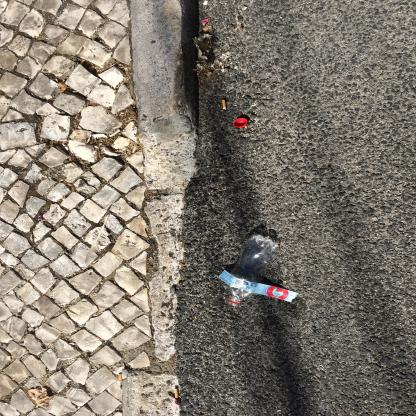diger: (222, 100, 227, 110)
plastik: (219, 234, 299, 307), (233, 118, 248, 128)
